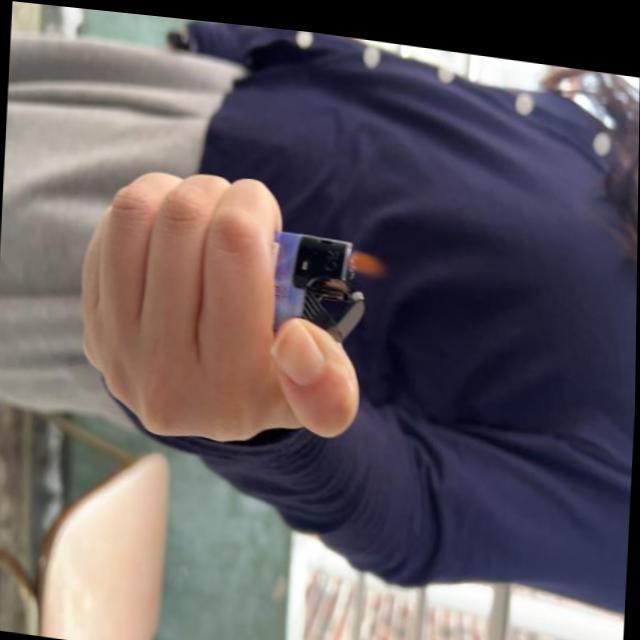Fire: (346, 235, 391, 273)
